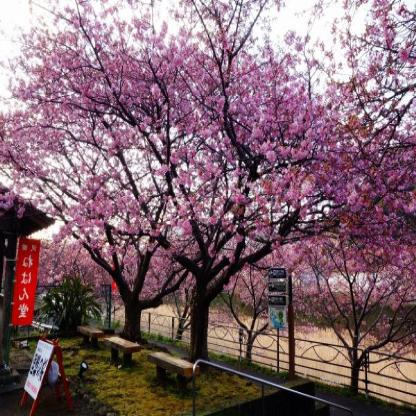KawazuSakura: (2, 0, 209, 297), (149, 0, 323, 311), (268, 0, 416, 359)
